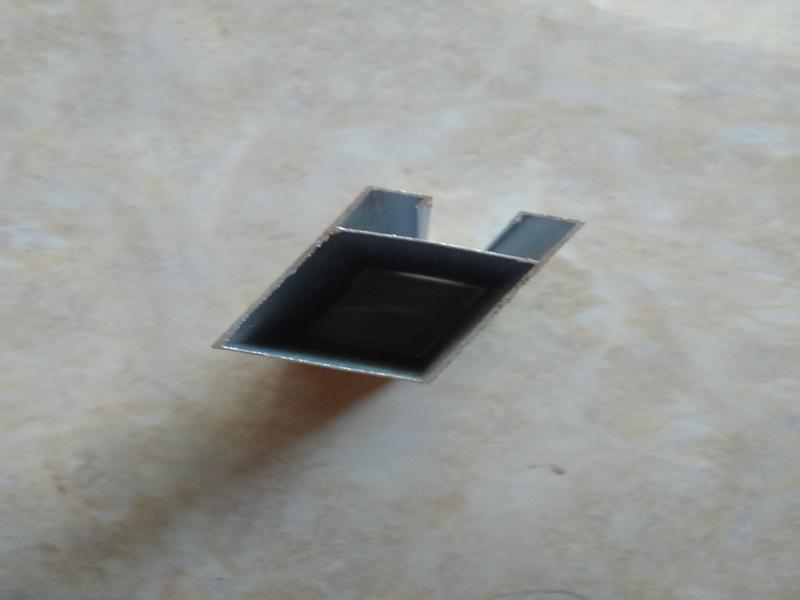Aluminium_1: (185, 121, 610, 438)
